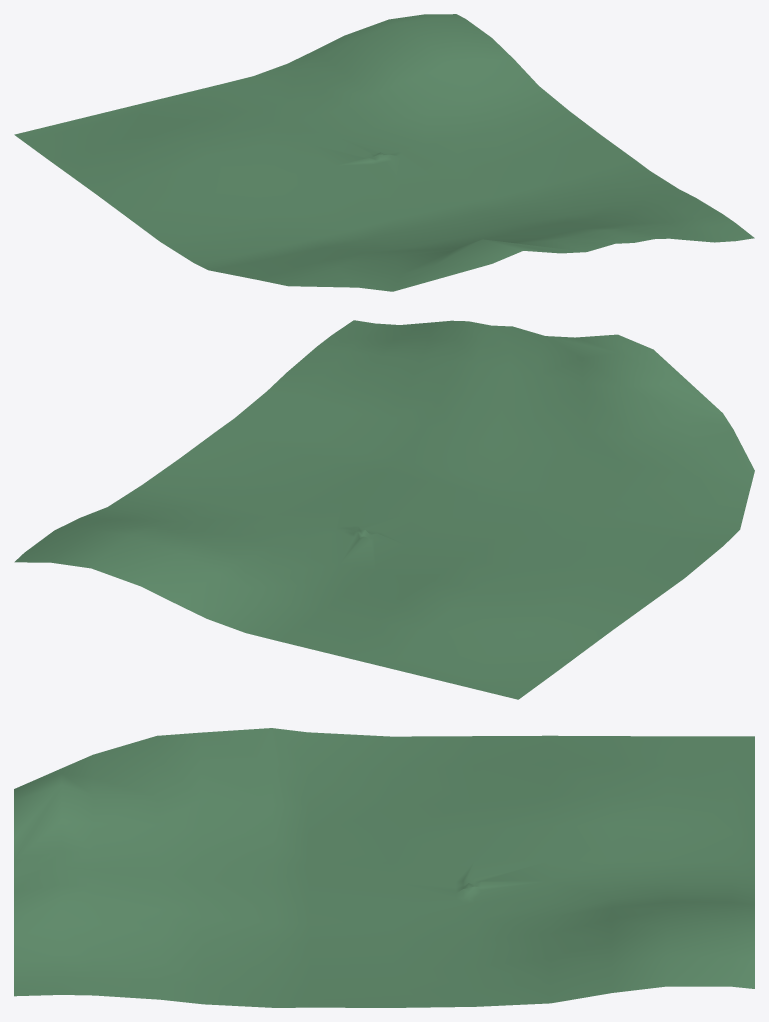
Rendered from ground_low.fbx.
The picture shows the model from 3 angles, top to bottom: view 1: azimuth 30°, elevation 25°; view 2: azimuth 150°, elevation 25°; view 3: azimuth 270°, elevation 25°; orthographic projection. The views are drawn at different scales.
Parts seen in each view (by area): view 1: ground_low; view 2: ground_low; view 3: ground_low.
Boxes of the visible parts, bbox=[...] form: ground_low: bbox=[14, 14, 754, 291]; ground_low: bbox=[14, 320, 754, 699]; ground_low: bbox=[14, 728, 754, 1007].
Size of the model in its own units: 67.52 by 8.58 by 78.79.
